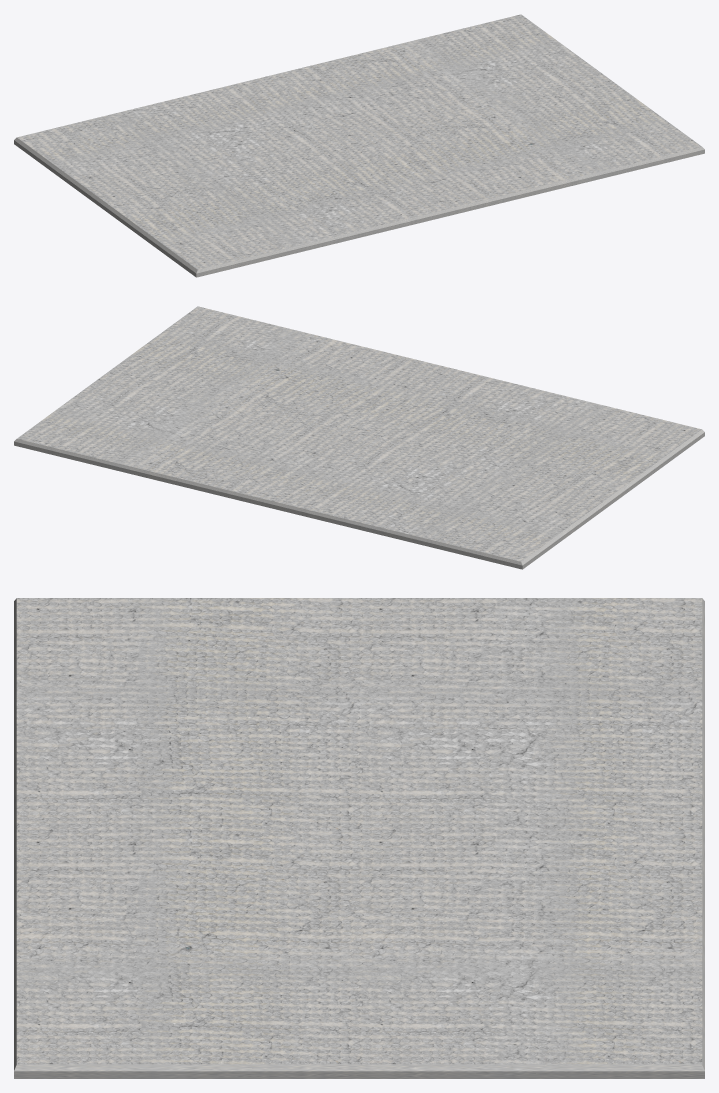
Rendered from carpet.glb.
The picture shows the model from 3 angles, top to bottom: view 1: azimuth 30°, elevation 25°; view 2: azimuth 150°, elevation 25°; view 3: azimuth 270°, elevation 25°; orthographic projection. The views are drawn at different scales.
Visible parts, largest first — view 1: Carpet; view 2: Carpet; view 3: Carpet.
Boxes of the visible parts, x1=… form: Carpet: x1=14, y1=14, x2=704, y2=277; Carpet: x1=14, y1=306, x2=704, y2=569; Carpet: x1=14, y1=598, x2=704, y2=1078.
Bounding box in the file's own units: 3.22 × 0.041 × 2.
Materials: 1 (1 with a texture image).
